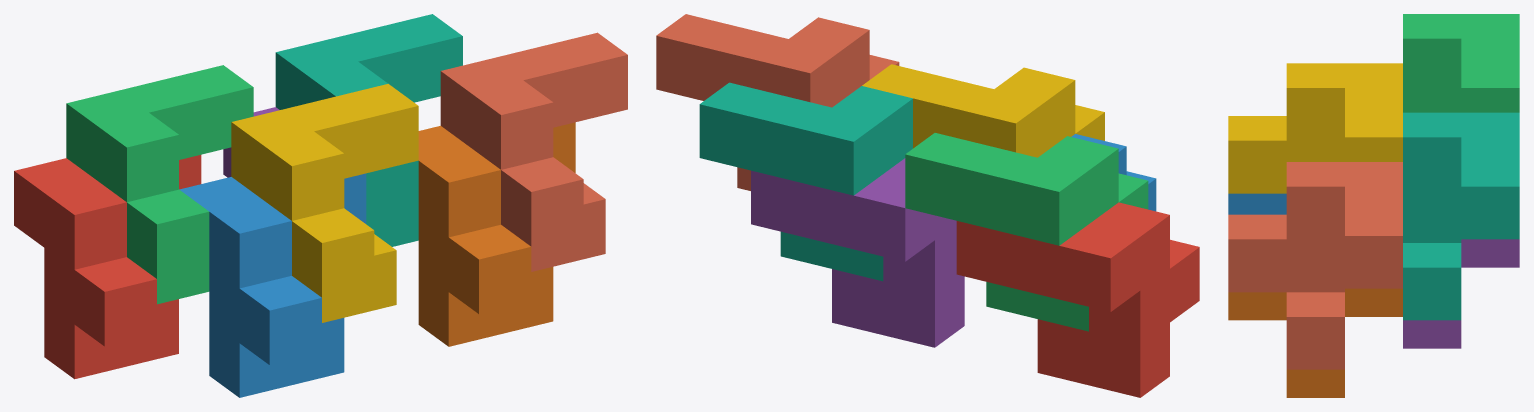
File: tiling.obj
The picture shows the model from 3 angles, left to right: view 1: azimuth 30°, elevation 25°; view 2: azimuth 150°, elevation 25°; view 3: azimuth 270°, elevation 25°; orthographic projection. The views are drawn at different scales.
Visible parts, largest first — view 1: copy_1_domain_4, copy_1_domain_8, copy_1_domain_3, copy_1_domain_1, copy_1_domain_2, copy_1_domain_6, copy_1_domain_7; view 2: copy_1_domain_1, copy_1_domain_5, copy_1_domain_3, copy_1_domain_7, copy_1_domain_8, copy_1_domain_4, copy_1_domain_2; view 3: copy_1_domain_8, copy_1_domain_7, copy_1_domain_4, copy_1_domain_3, copy_1_domain_6, copy_1_domain_5, copy_1_domain_2.
Boxes of the visible parts, <box> form: copy_1_domain_4: <box>231,83,418,322</box>; copy_1_domain_8: <box>440,32,627,271</box>; copy_1_domain_3: <box>66,65,253,304</box>; copy_1_domain_1: <box>14,155,201,379</box>; copy_1_domain_2: <box>179,173,366,397</box>; copy_1_domain_6: <box>418,122,575,346</box>; copy_1_domain_7: <box>275,14,462,246</box>; copy_1_domain_1: <box>956,202,1199,397</box>; copy_1_domain_5: <box>751,158,964,347</box>; copy_1_domain_3: <box>905,133,1148,331</box>; copy_1_domain_7: <box>699,82,912,281</box>; copy_1_domain_8: <box>656,14,899,190</box>; copy_1_domain_4: <box>862,64,1104,157</box>; copy_1_domain_2: <box>1071,134,1156,211</box>; copy_1_domain_8: <box>1228,162,1402,369</box>; copy_1_domain_7: <box>1403,112,1519,320</box>; copy_1_domain_4: <box>1228,63,1402,193</box>; copy_1_domain_3: <box>1403,14,1519,112</box>; copy_1_domain_6: <box>1228,288,1402,397</box>; copy_1_domain_5: <box>1403,239,1519,348</box>; copy_1_domain_2: <box>1228,193,1286,214</box>.
Size of the model in its own units: 10 by 4 by 5.
